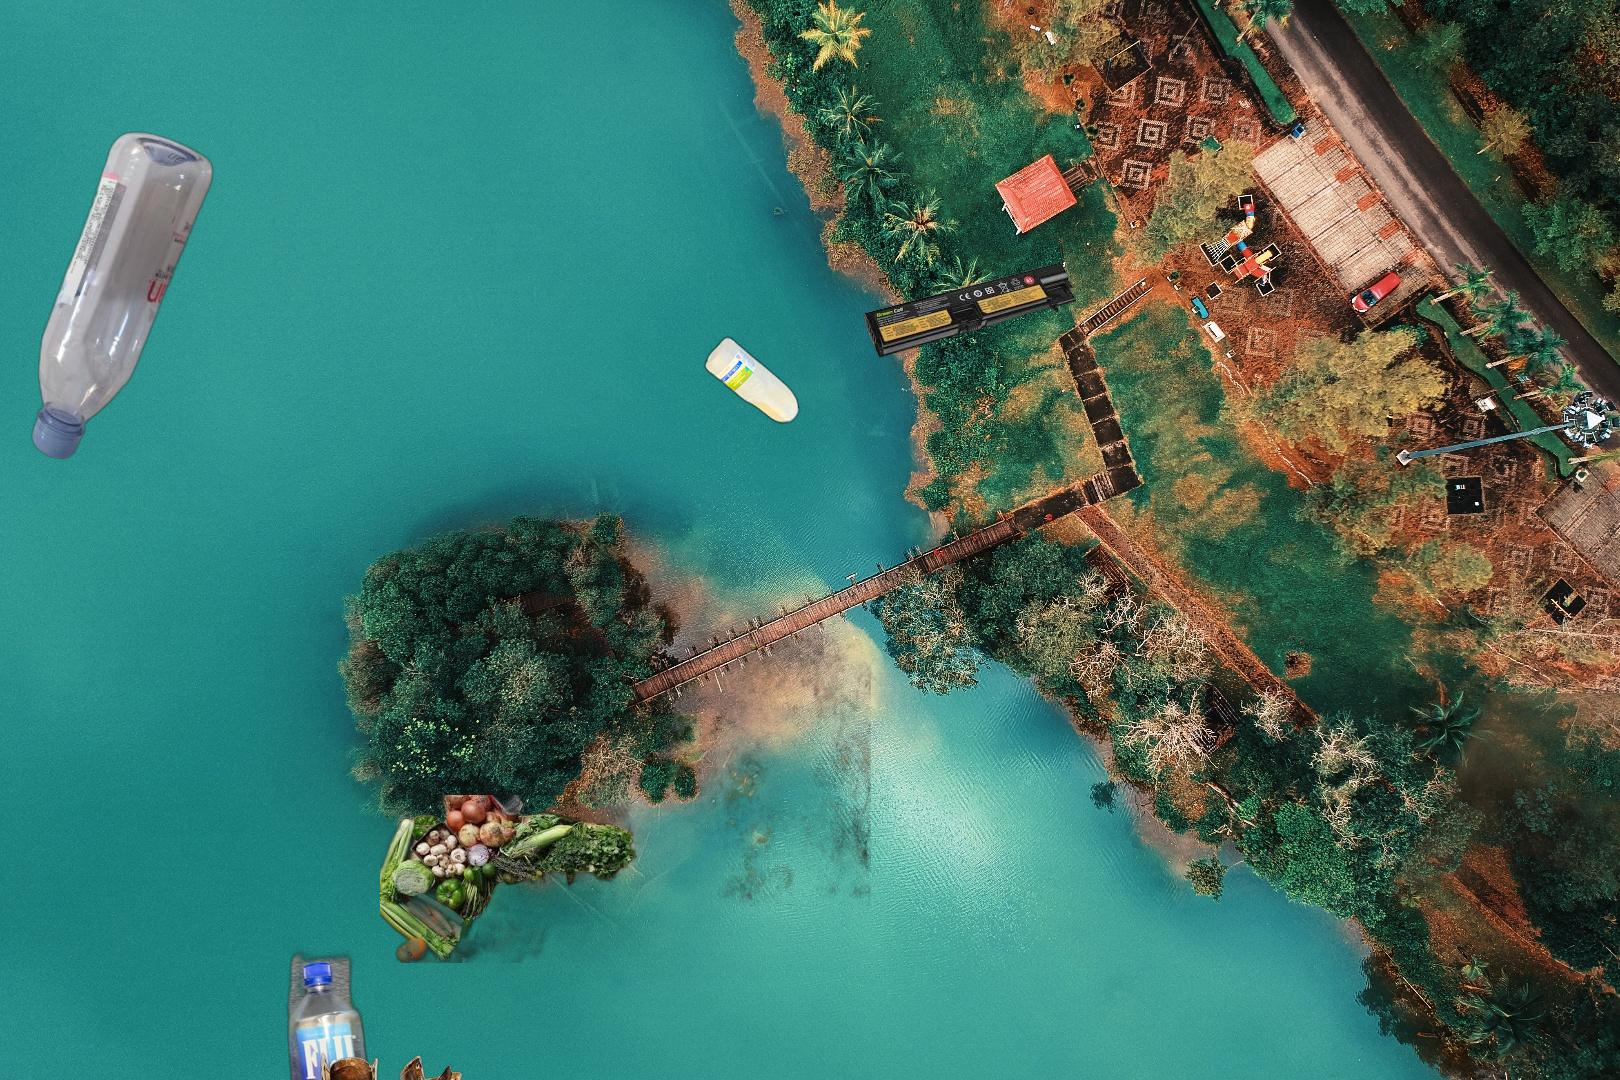battery: (861, 260, 1079, 360)
biological: (688, 630, 871, 906), (380, 796, 647, 963)
plastic-bottles: (27, 128, 218, 462), (280, 937, 391, 1080), (700, 331, 803, 428)
shoes: (299, 1050, 536, 1080)
trashbox-cardboard: (1331, 693, 1620, 1078)
